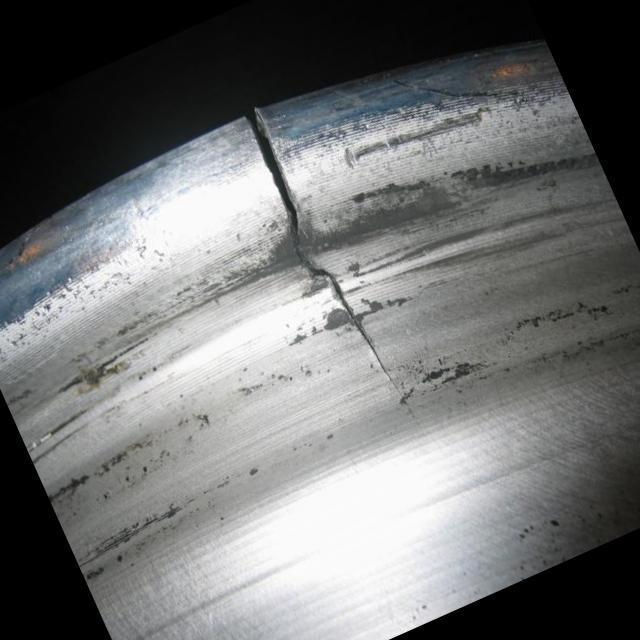defect: (242, 103, 431, 445)
